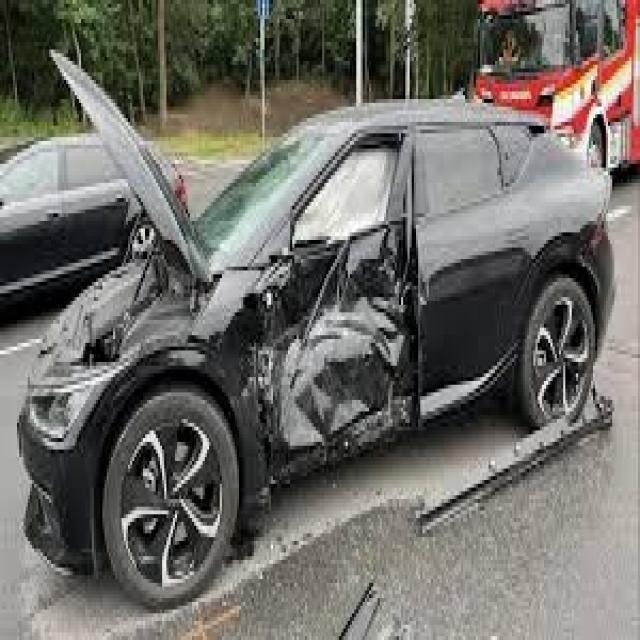accident: (50, 130, 614, 566)
